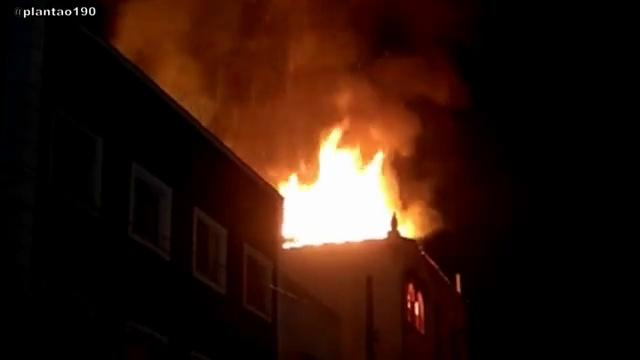fire: (288, 176, 386, 232)
